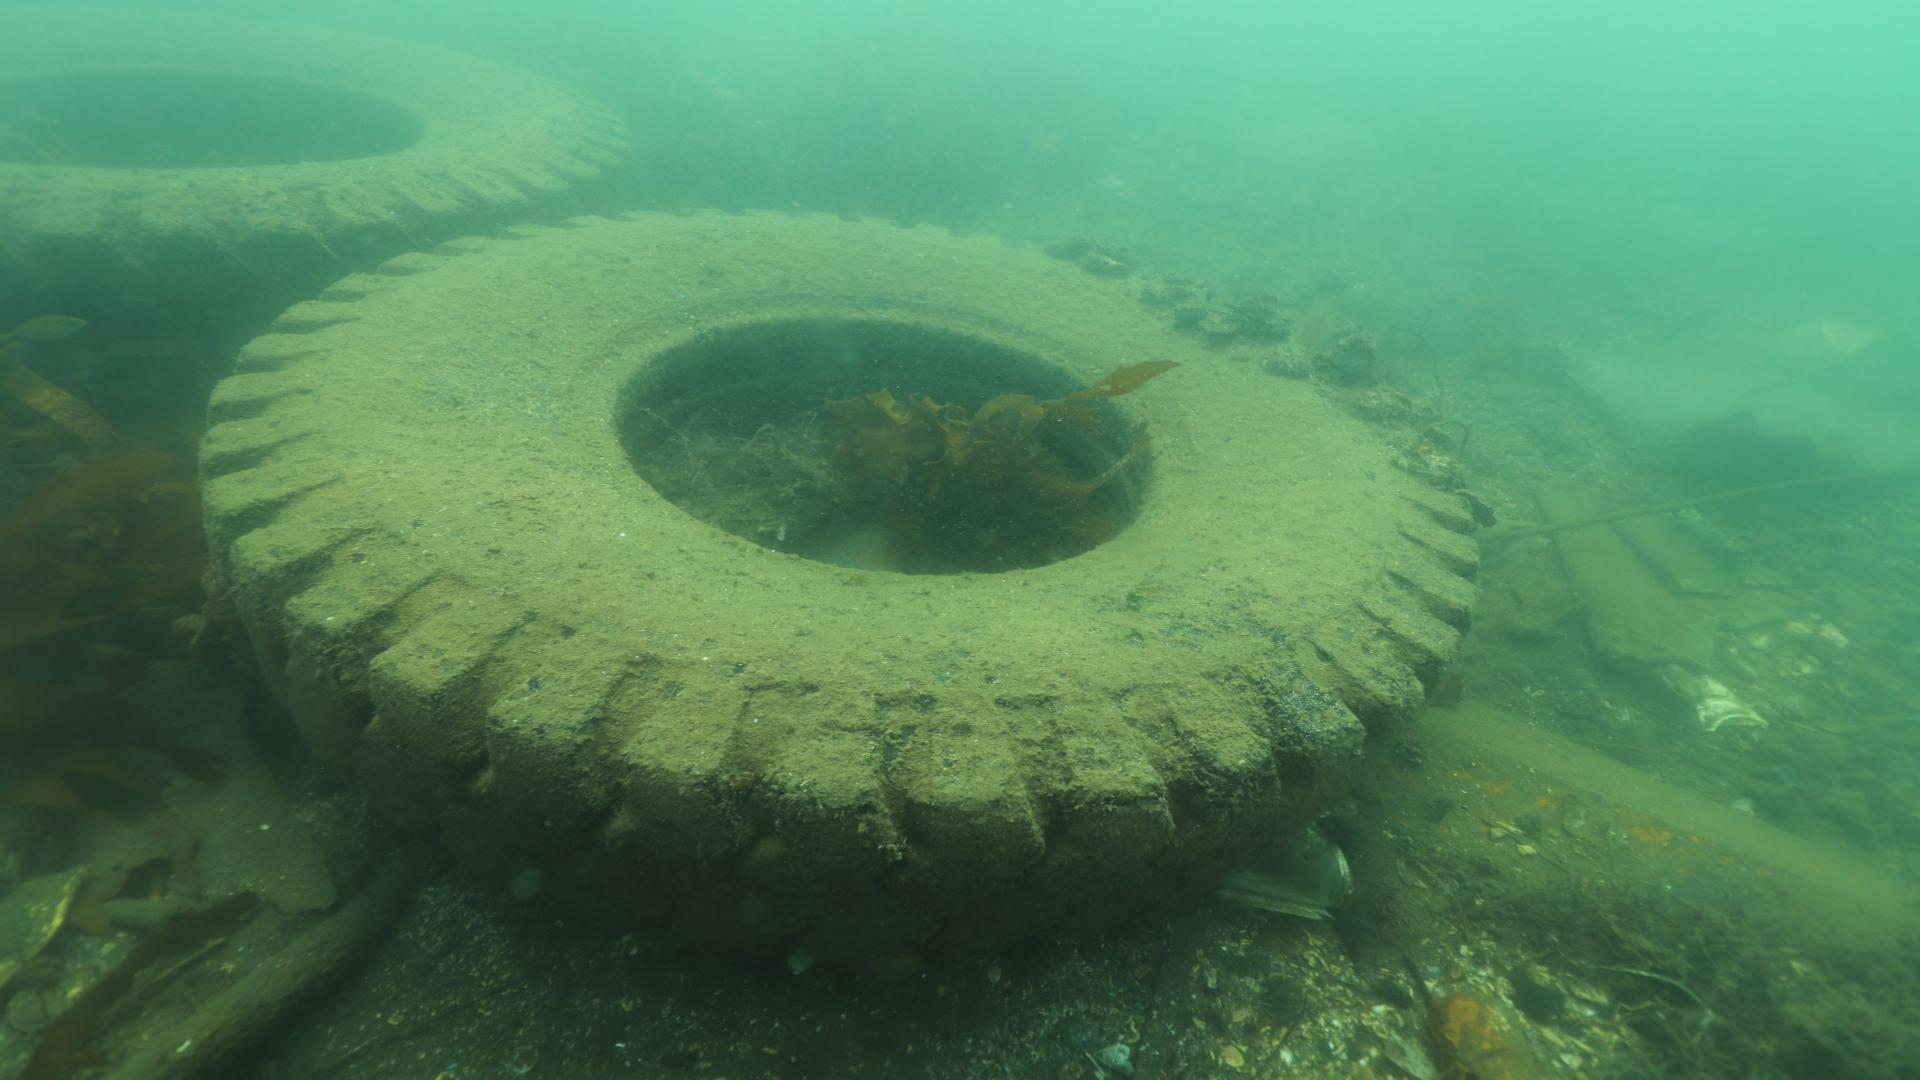tire: (196, 206, 1481, 982), (0, 0, 634, 385)
